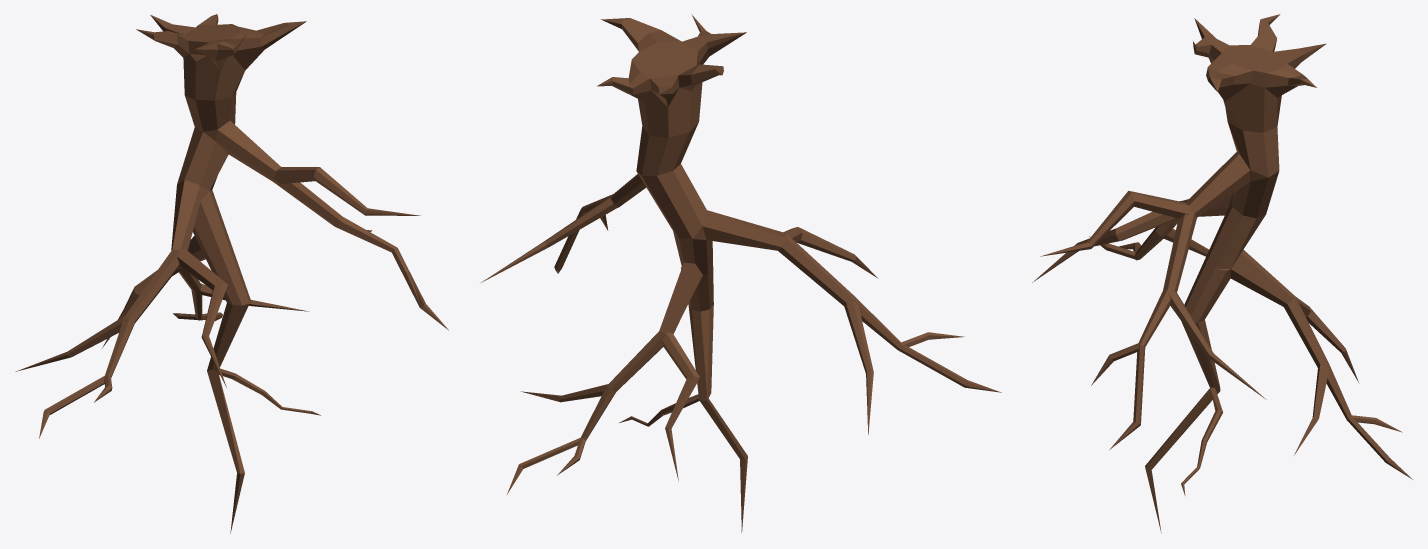
3 views of the same model, side by side, from view 1: azimuth 30°, elevation 25°; view 2: azimuth 150°, elevation 25°; view 3: azimuth 270°, elevation 25° (orthographic). The views are drawn at different scales.
Visible parts, largest first — view 1: Line01; view 2: Line01; view 3: Line01.
Boxes of the visible parts, box(x1,y1,x2,y2) form: Line01: box(15, 14, 448, 533); Line01: box(481, 14, 1001, 532); Line01: box(1032, 14, 1412, 533).
Bounding box in the file's own units: 1.78 × 2 × 1.36.
